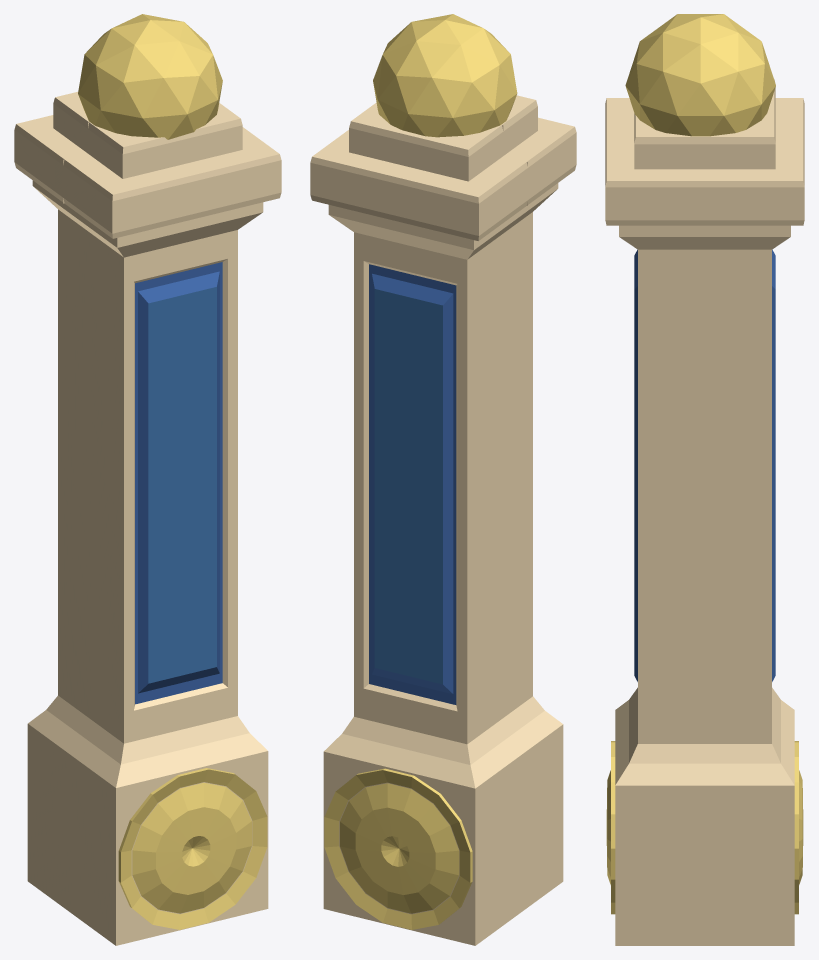
File: HeavenPillar.fbx
3 renders of one model, left to right at view 1: azimuth 30°, elevation 25°; view 2: azimuth 150°, elevation 25°; view 3: azimuth 270°, elevation 25°, orthographic.
Visible parts, largest first — view 1: Cube.019, Sphere.045, Icosphere.004; view 2: Cube.019, Sphere.045, Icosphere.004; view 3: Cube.019, Icosphere.004, Sphere.045.
Boxes of the visible parts, bbox=[...] form: Cube.019: bbox=[14, 91, 281, 945]; Sphere.045: bbox=[118, 768, 267, 929]; Icosphere.004: bbox=[78, 14, 222, 139]; Cube.019: bbox=[310, 95, 576, 945]; Sphere.045: bbox=[324, 768, 472, 929]; Icosphere.004: bbox=[373, 14, 517, 137]; Cube.019: bbox=[605, 79, 804, 945]; Icosphere.004: bbox=[625, 14, 775, 136]; Sphere.045: bbox=[606, 741, 803, 914].
Size of the model in its own units: 108 by 534 by 108.
